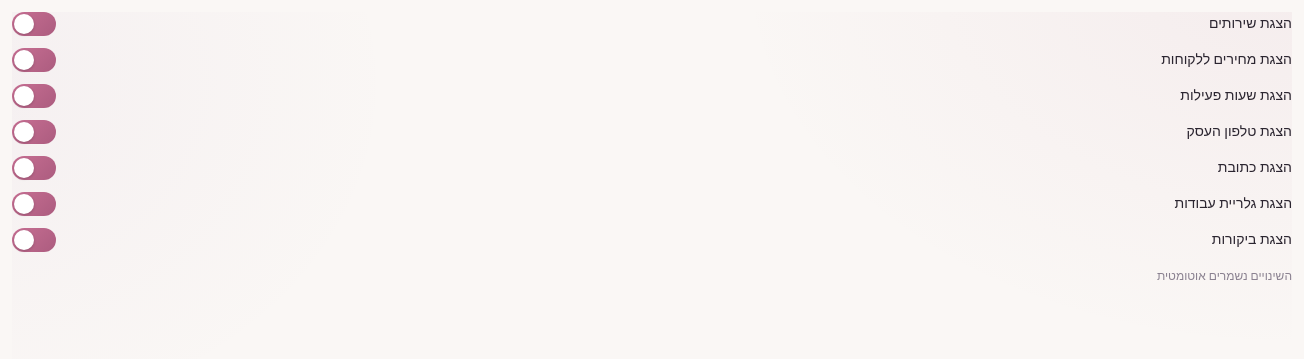
Test case: VisibilityForm › reverts the switch and shows an error when the save fails
The width and height of the screenshot is (1304, 359).
Click the switch named "הצגת מחירים ללקוחות" at {"x": 34, "y": 60}, box [12, 48, 56, 72]
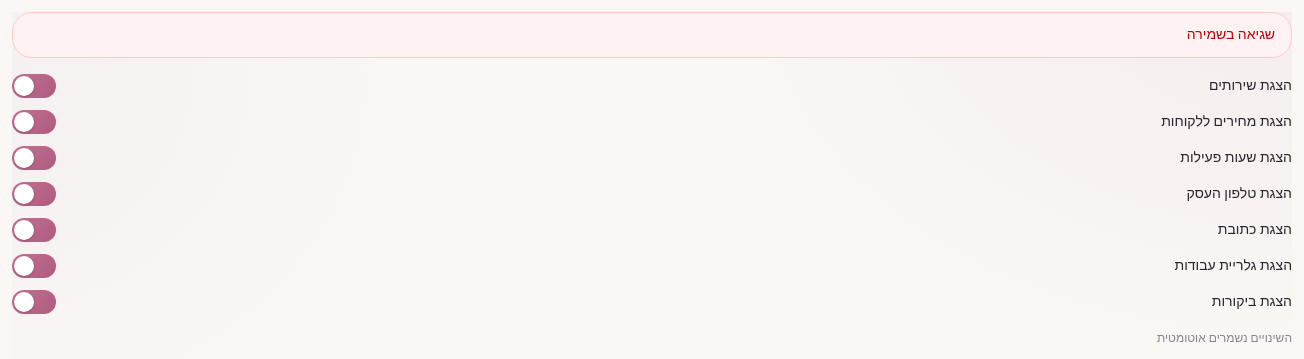
Expected: the text "שגיאה בשמירה" is shown, [12, 12, 1292, 58]
